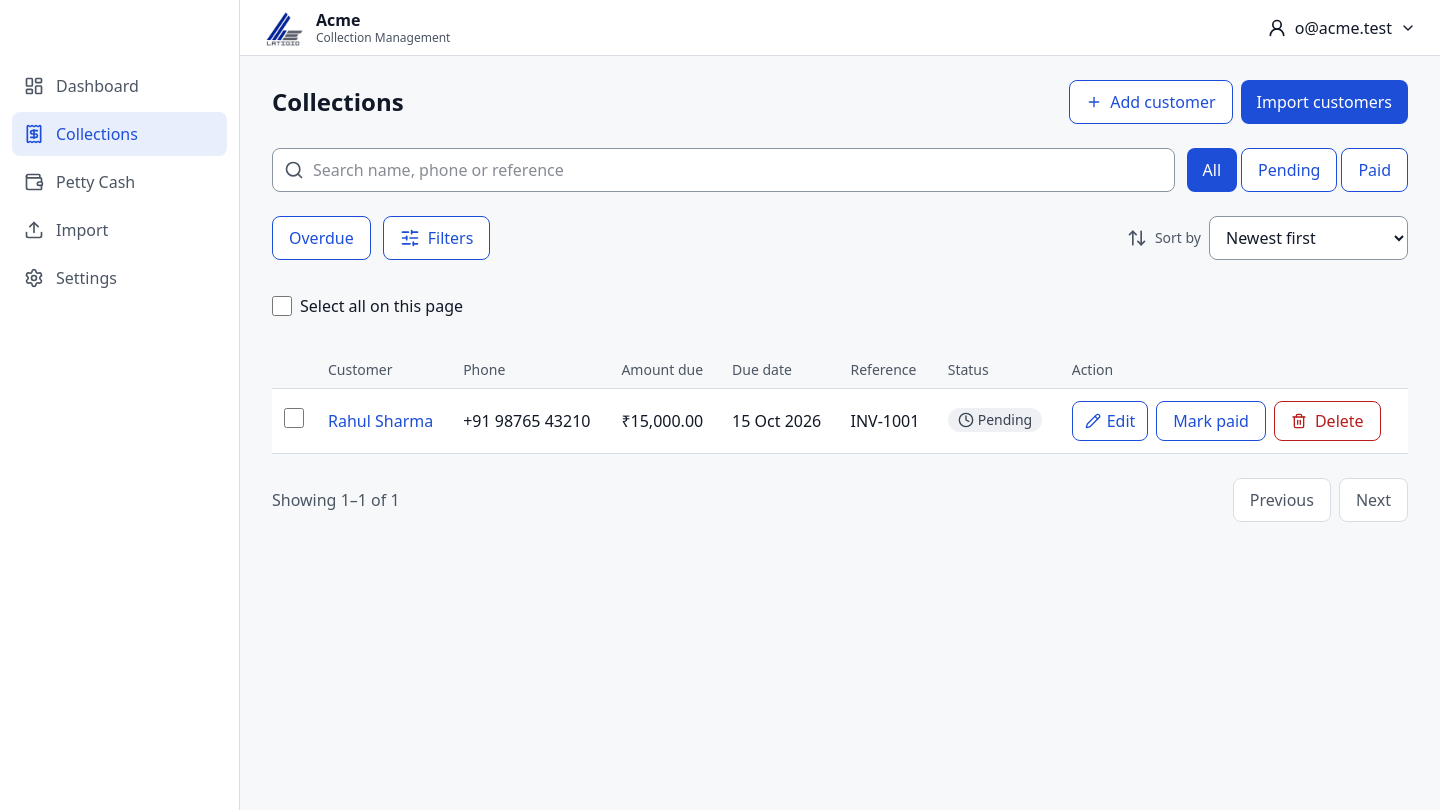
Test: Collections list › marks a customer paid from the list after confirming
The image size is (1440, 810).
Click the button with aria-label "Mark paid for Rahul Sharma" at (1211, 421), box [1156,401,1266,441]
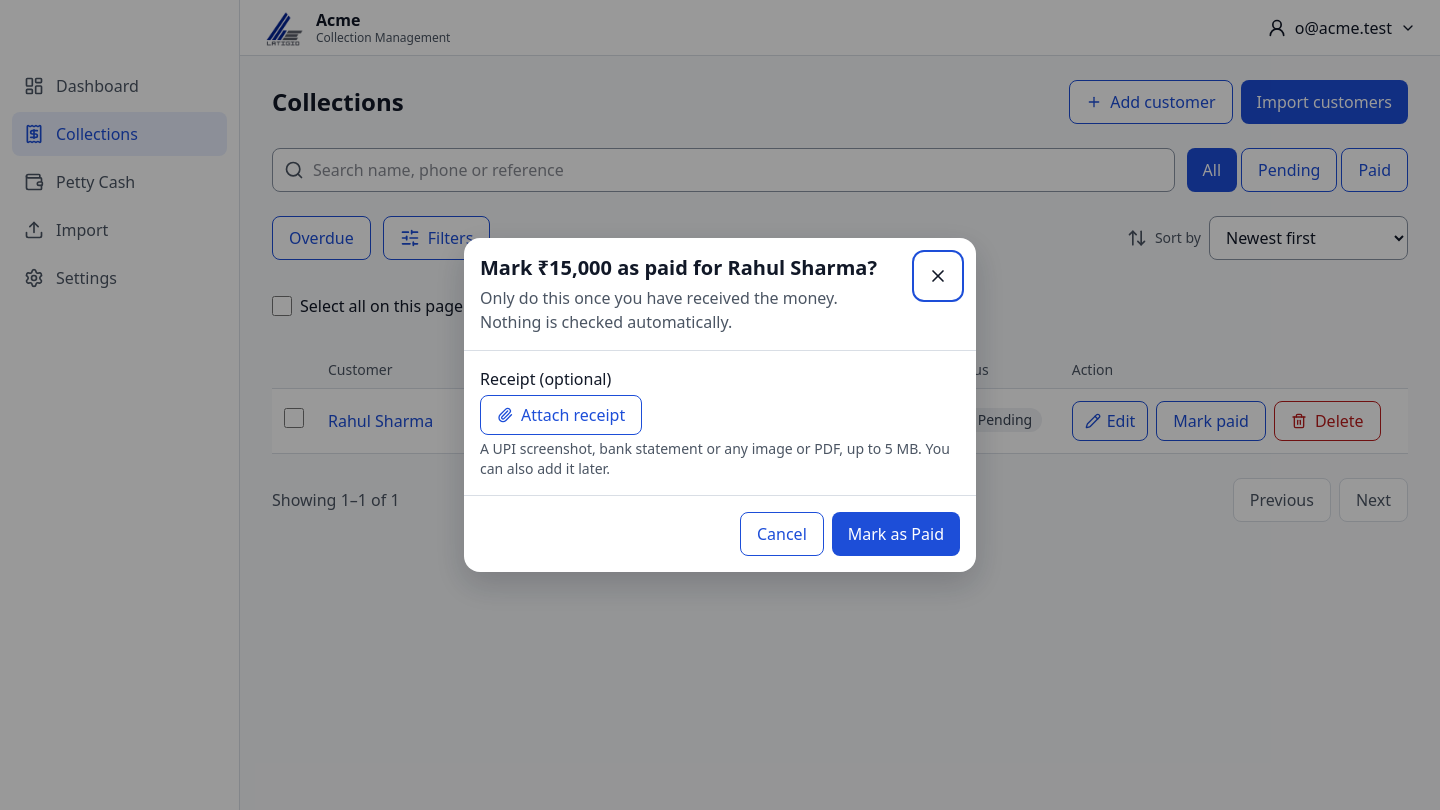
Click the button "Mark as Paid" at (896, 534), box [832,512,960,556]
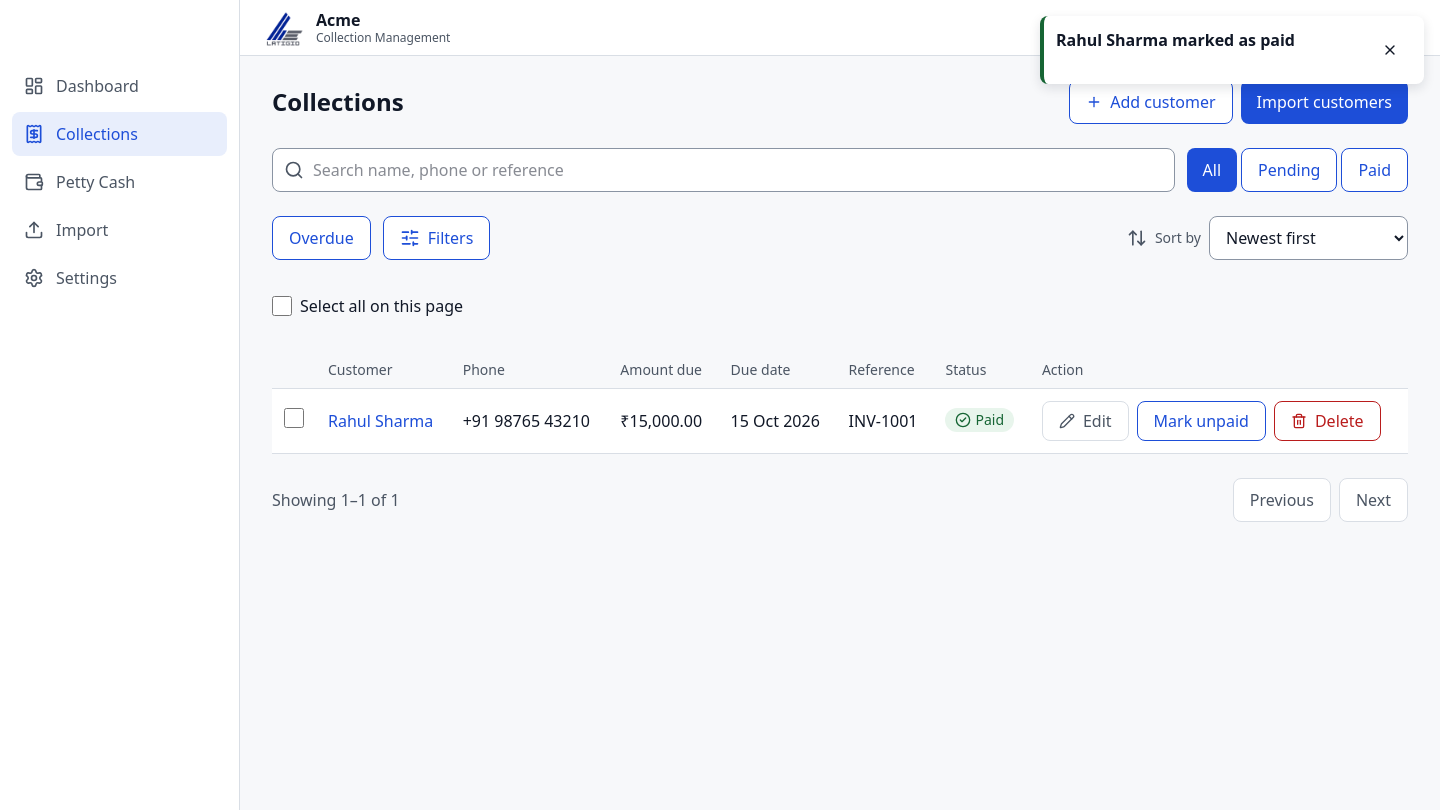
Check: the dialog is gone
Check: the text "Paid" is shown, box [946,408,1014,432]
Check: the button with aria-label "Mark unpaid for Rahul Sharma" is shown, box [1136,401,1266,441]
